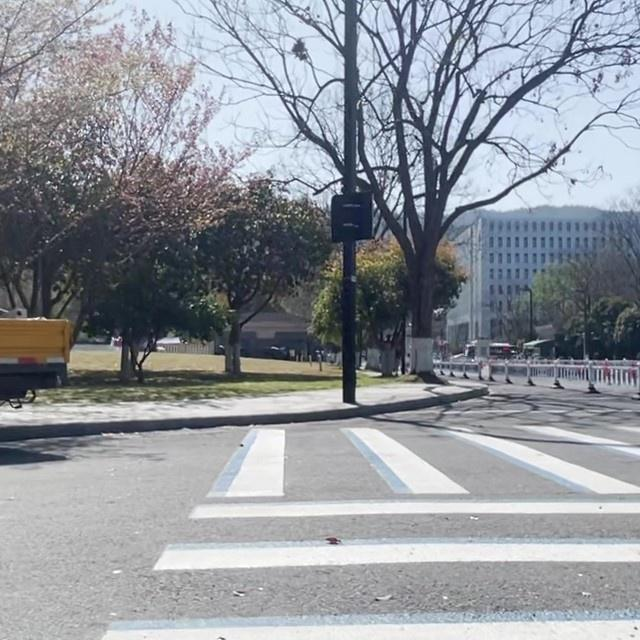curb: (0, 388, 487, 441)
